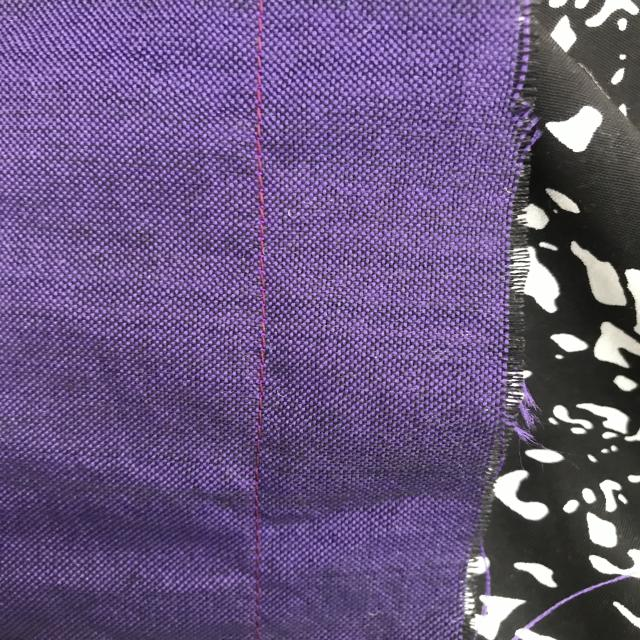good: (238, 278, 285, 467), (243, 62, 279, 240)
